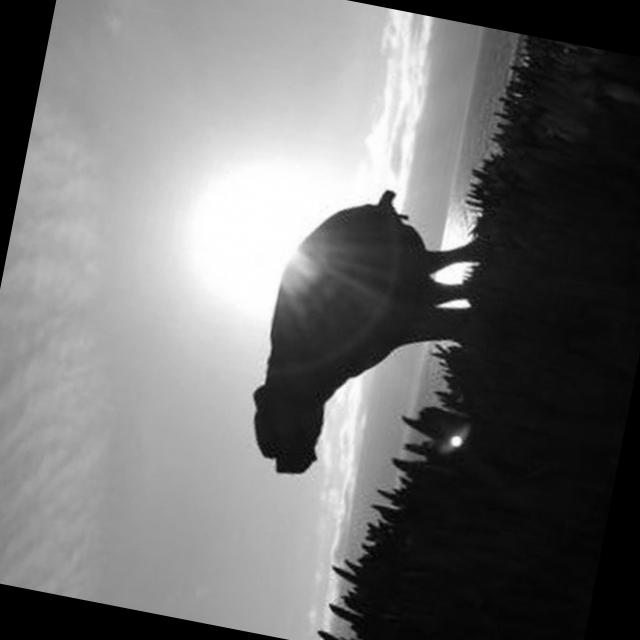squatting: (218, 154, 512, 517)
